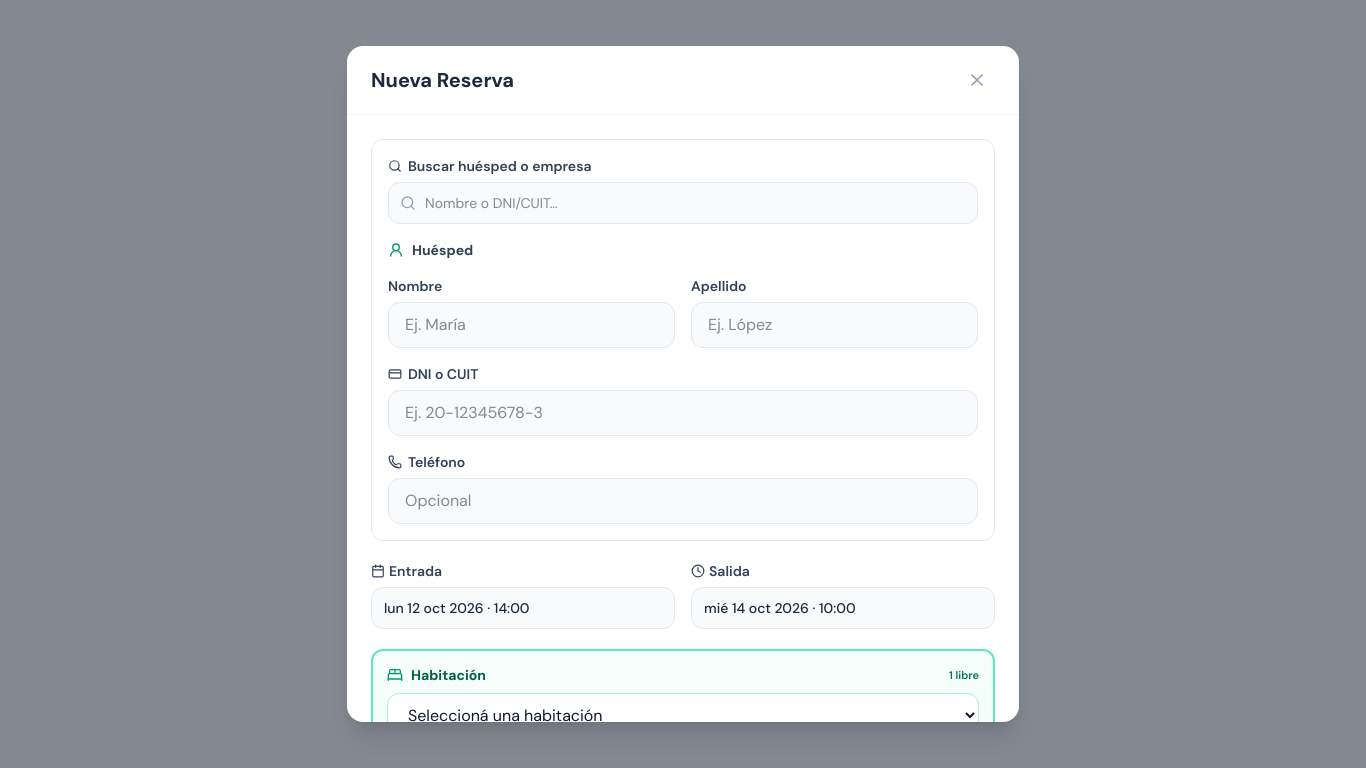
Test: NewReservationModal: aviso cuando la habitación elegida deja de estar libre › al elegir otra habitación el aviso se va y la reserva se puede crear
This screenshot has width=1366, height=768.
Type "Juan" into the field labelled "Nombre". click: (532, 325)
box: [388,302,675,348]
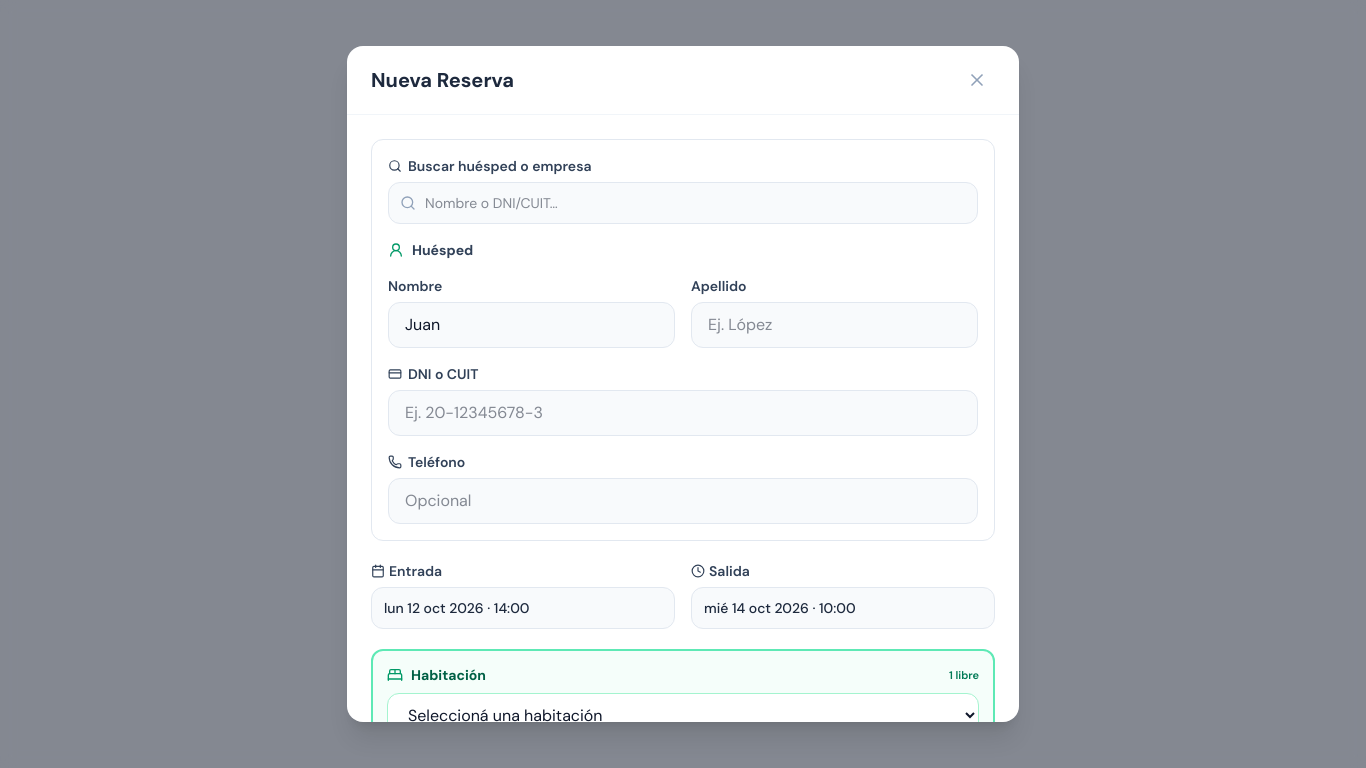
Type "Prueba" into the field labelled "Apellido". click: (834, 325)
box: [691,302,978,348]
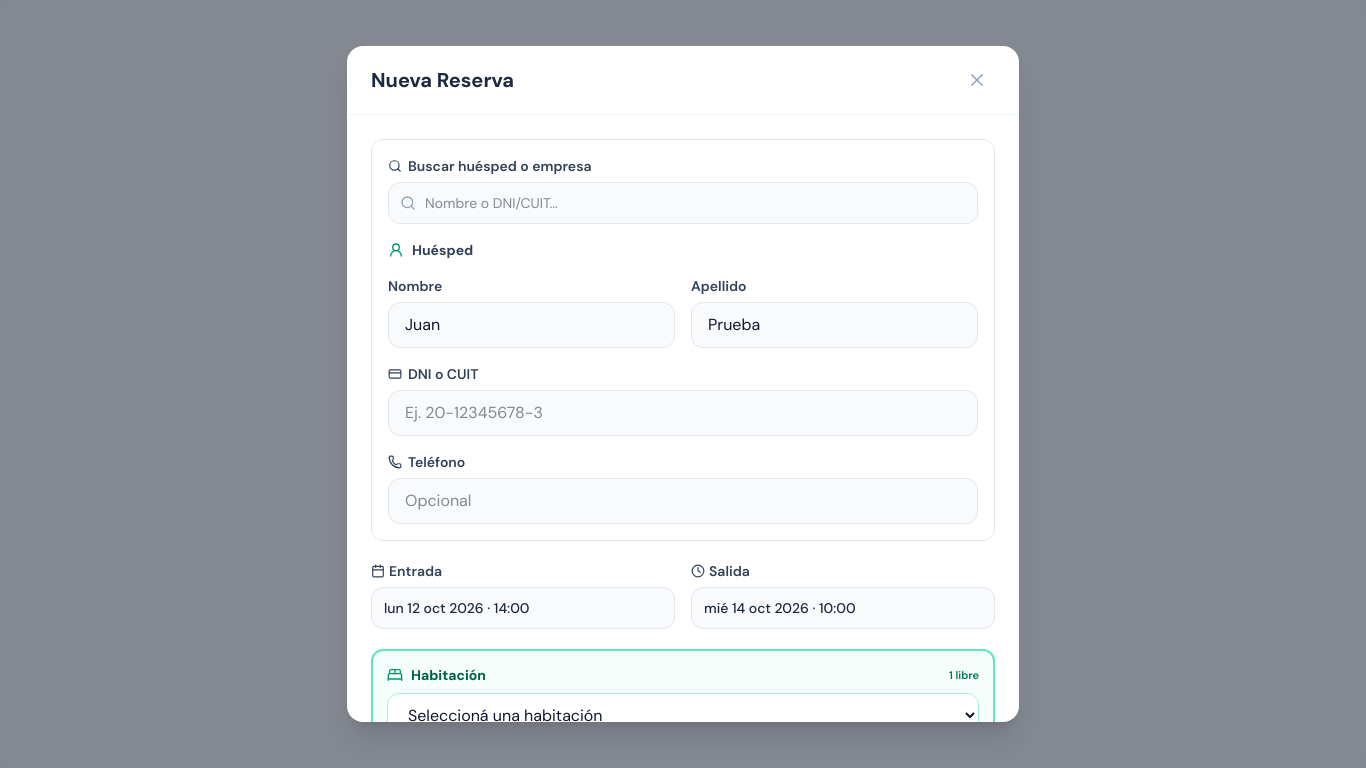
Type "30123456" into the field labelled "DNI o CUIT". click: (683, 413)
box: [388,390,978,436]
(page scrolled)
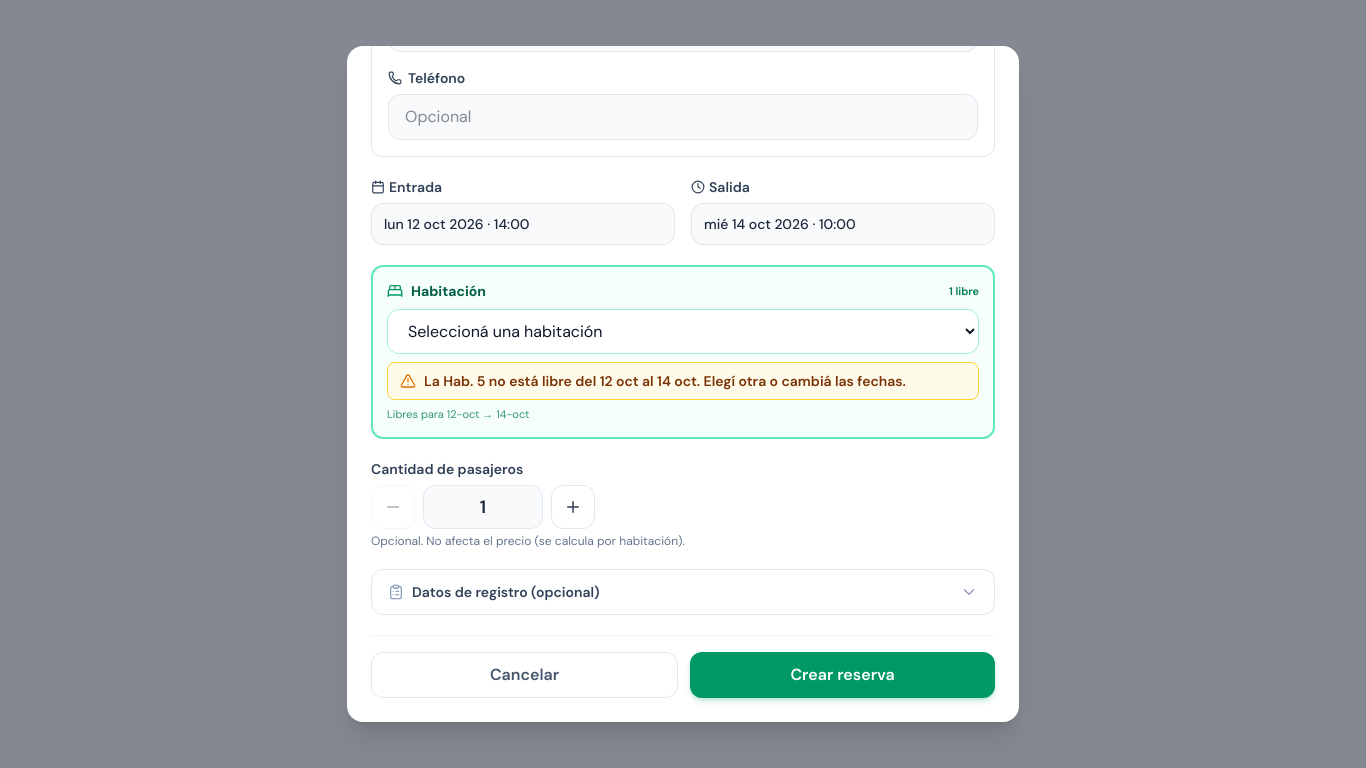
Con el huésped completo, lo único que falta es la habitación.
Click the submit button. click: (842, 675)
box: [690,652,995,698]
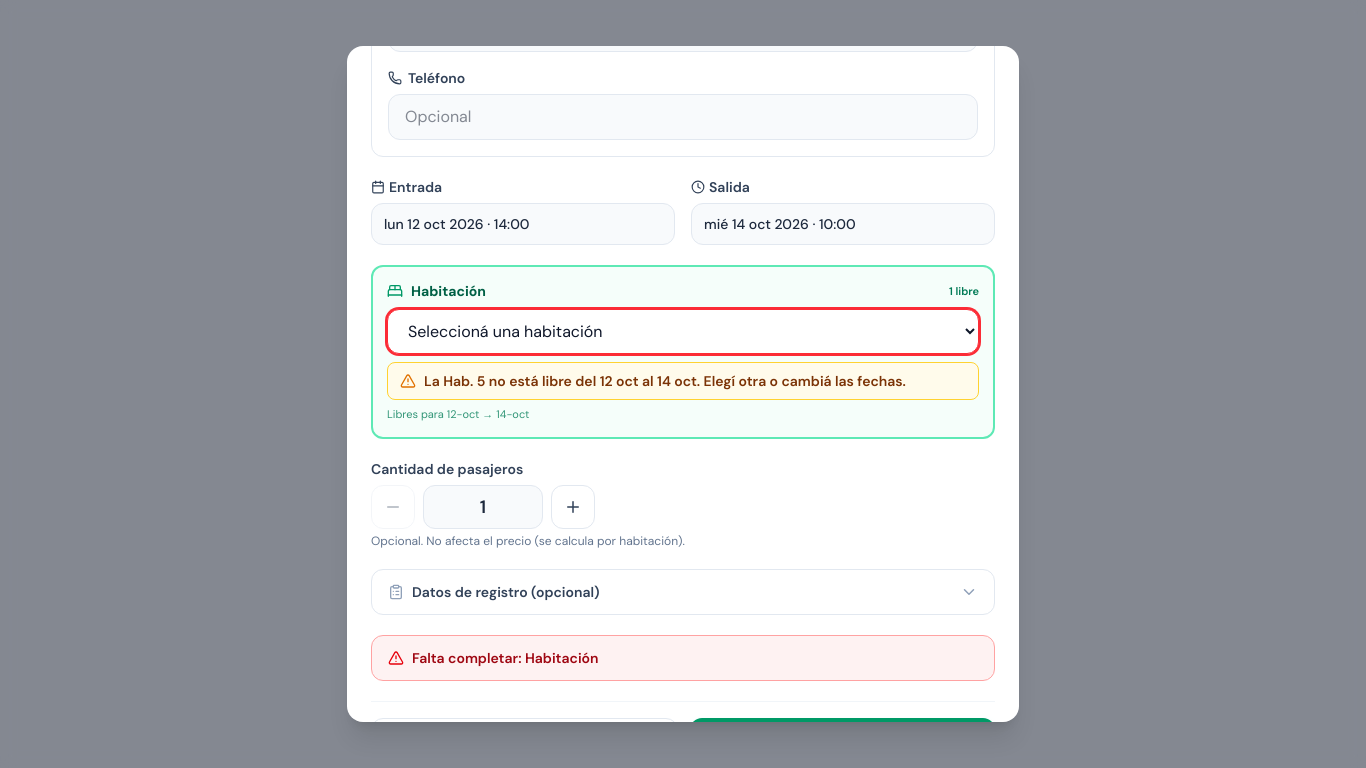
Now the text "Falta completar: Habitación" is shown, box [412,648,598,668]
Select "Hab. 7 - Doble" in the dropdown labelled "Habitación". click: (683, 332)
box: [387,309,979,354]
(page scrolled)
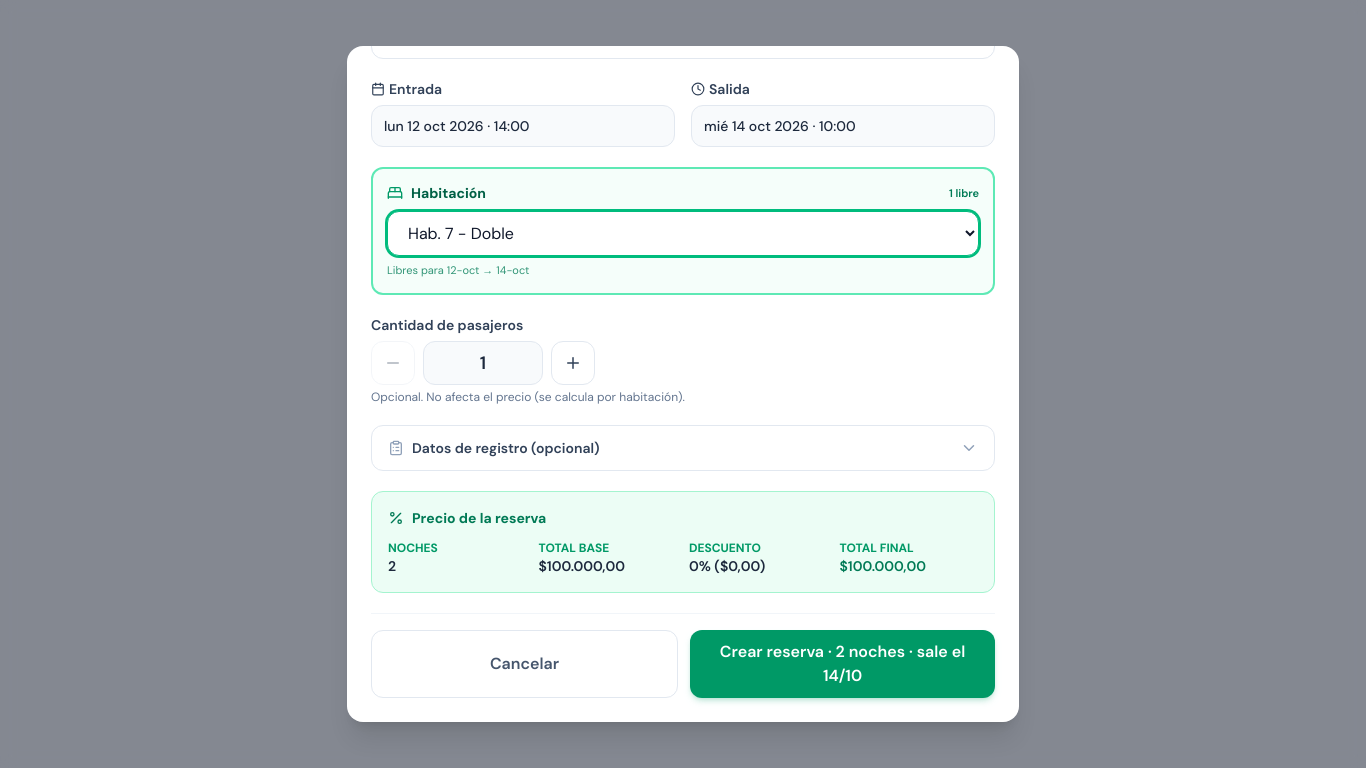
Now the submit button is enabled, box [690,630,995,698]
Now the text "no está libre" is gone
